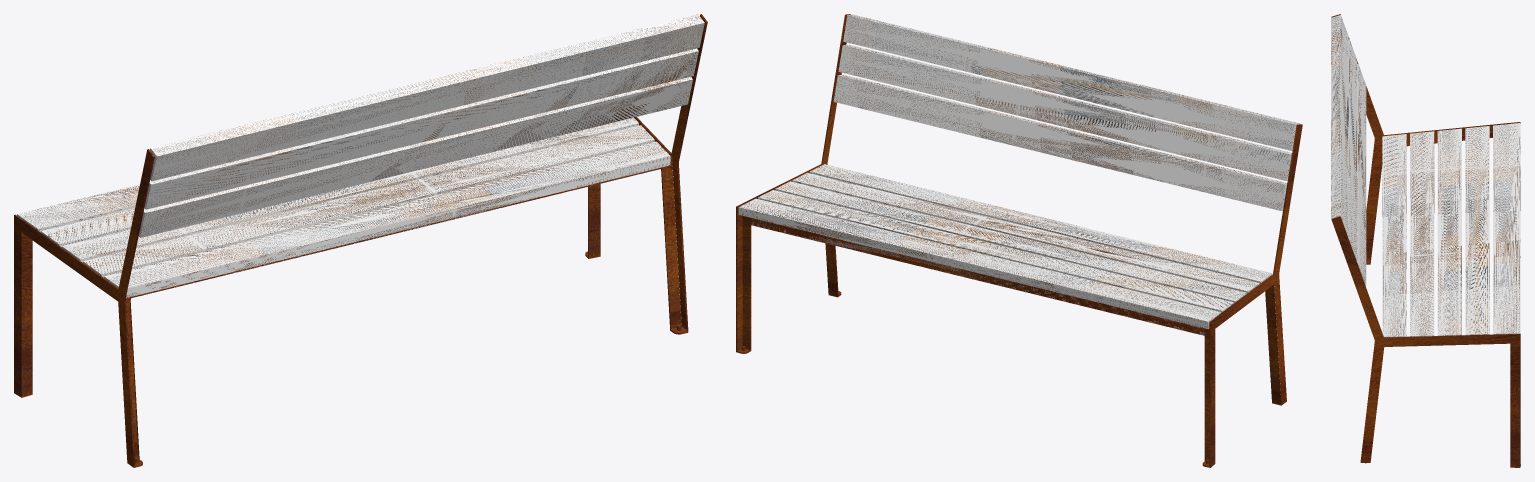
The picture shows the model from 3 angles, left to right: view 1: azimuth 30°, elevation 25°; view 2: azimuth 150°, elevation 25°; view 3: azimuth 270°, elevation 25°; orthographic projection. The views are drawn at different scales.
Parts seen in each view (by area): view 1: mesh3_mesh3-geometry, mesh4_mesh4-geometry, mesh5_mesh5-geometry, mesh10_mesh10-geometry, mesh8_mesh8-geometry, mesh13_mesh13-geometry, mesh9_mesh9-geometry, mesh18_mesh18-geometry, mesh6_mesh6-geometry, mesh7_mesh7-geometry, mesh16_mesh16-geometry, mesh1_mesh1-geometry (+1 smaller); view 2: mesh3_mesh3-geometry, mesh5_mesh5-geometry, mesh4_mesh4-geometry, mesh6_mesh6-geometry, mesh7_mesh7-geometry, mesh9_mesh9-geometry, mesh8_mesh8-geometry, mesh10_mesh10-geometry, mesh13_mesh13-geometry, mesh2_mesh2-geometry, mesh18_mesh18-geometry, mesh16_mesh16-geometry (+1 smaller); view 3: mesh6_mesh6-geometry, mesh7_mesh7-geometry, mesh9_mesh9-geometry, mesh8_mesh8-geometry, mesh10_mesh10-geometry, mesh18_mesh18-geometry, mesh3_mesh3-geometry, mesh4_mesh4-geometry, mesh5_mesh5-geometry, mesh13_mesh13-geometry, mesh21_mesh21-geometry, mesh16_mesh16-geometry.
Boxes of the visible parts, x1,y1,x2,y2 form: mesh3_mesh3-geometry: (150, 14, 704, 181); mesh4_mesh4-geometry: (138, 77, 692, 237); mesh5_mesh5-geometry: (144, 48, 698, 209); mesh10_mesh10-geometry: (104, 141, 670, 297); mesh8_mesh8-geometry: (83, 125, 654, 277); mesh13_mesh13-geometry: (14, 214, 142, 467); mesh9_mesh9-geometry: (62, 117, 638, 262); mesh18_mesh18-geometry: (585, 117, 688, 334); mesh6_mesh6-geometry: (17, 184, 139, 232); mesh7_mesh7-geometry: (40, 208, 134, 247); mesh16_mesh16-geometry: (118, 149, 154, 297); mesh1_mesh1-geometry: (130, 167, 660, 298); mesh3_mesh3-geometry: (843, 14, 1299, 150); mesh5_mesh5-geometry: (838, 44, 1291, 180); mesh4_mesh4-geometry: (833, 74, 1287, 210); mesh6_mesh6-geometry: (738, 198, 1220, 329); mesh7_mesh7-geometry: (758, 190, 1233, 312); mesh9_mesh9-geometry: (775, 181, 1246, 303); mesh8_mesh8-geometry: (792, 172, 1259, 293); mesh10_mesh10-geometry: (809, 164, 1272, 283); mesh13_mesh13-geometry: (1202, 274, 1286, 467); mesh2_mesh2-geometry: (750, 218, 1204, 335); mesh18_mesh18-geometry: (736, 164, 841, 353); mesh16_mesh16-geometry: (1273, 124, 1302, 274); mesh6_mesh6-geometry: (1493, 123, 1520, 334); mesh7_mesh7-geometry: (1465, 126, 1489, 335); mesh9_mesh9-geometry: (1437, 128, 1461, 335); mesh8_mesh8-geometry: (1410, 131, 1434, 336); mesh10_mesh10-geometry: (1382, 134, 1406, 337); mesh18_mesh18-geometry: (1360, 334, 1520, 467); mesh3_mesh3-geometry: (1331, 15, 1348, 236); mesh4_mesh4-geometry: (1357, 63, 1366, 285); mesh5_mesh5-geometry: (1348, 39, 1357, 260); mesh13_mesh13-geometry: (1366, 122, 1520, 264); mesh21_mesh21-geometry: (1331, 216, 1383, 340); mesh16_mesh16-geometry: (1331, 14, 1383, 138).
Bounding box in the file's own units: 0.8337 × 0.4539 × 0.3145.
